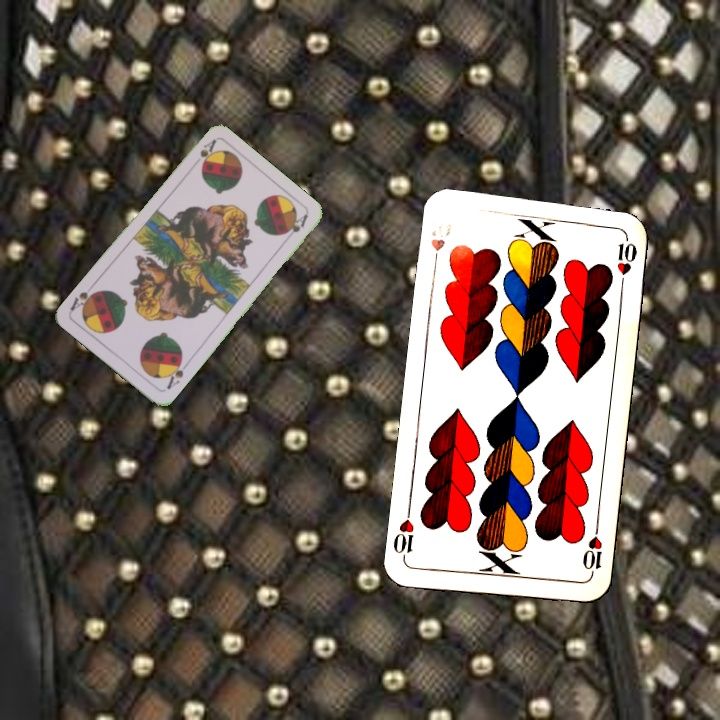H10: (578, 522, 605, 581), (427, 219, 447, 272)
SA: (188, 136, 219, 171), (162, 355, 191, 392)
